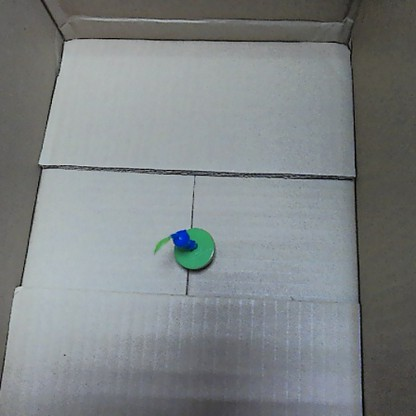leafairy: (151, 222, 215, 275)
